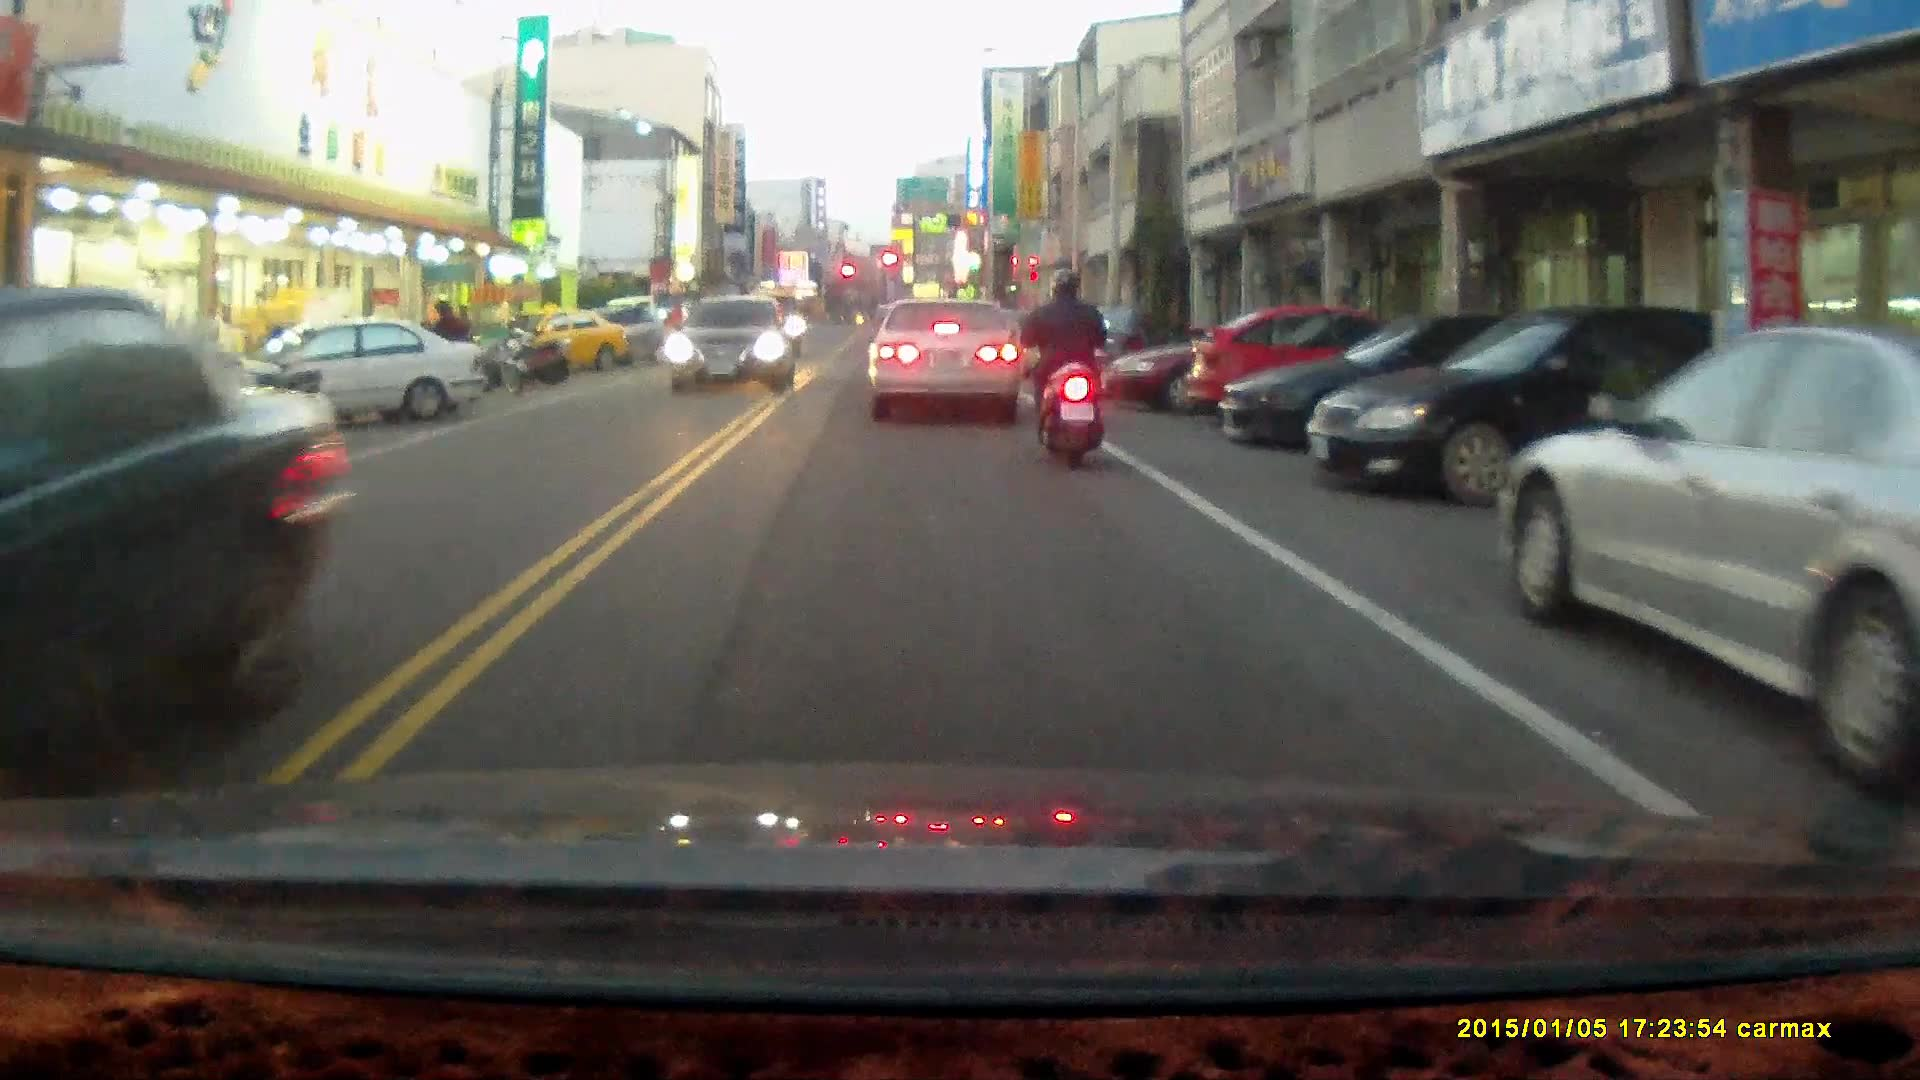pedestrian: (431, 295, 466, 376), (208, 303, 240, 377)
rider: (1019, 264, 1111, 470), (657, 296, 692, 368)
vehicle: (1502, 324, 1920, 798), (1, 284, 356, 798), (1306, 305, 1725, 508), (1219, 308, 1608, 455), (225, 306, 484, 429), (1184, 302, 1432, 428), (1105, 305, 1406, 407), (868, 293, 1024, 420), (670, 289, 800, 394), (514, 300, 635, 373)
